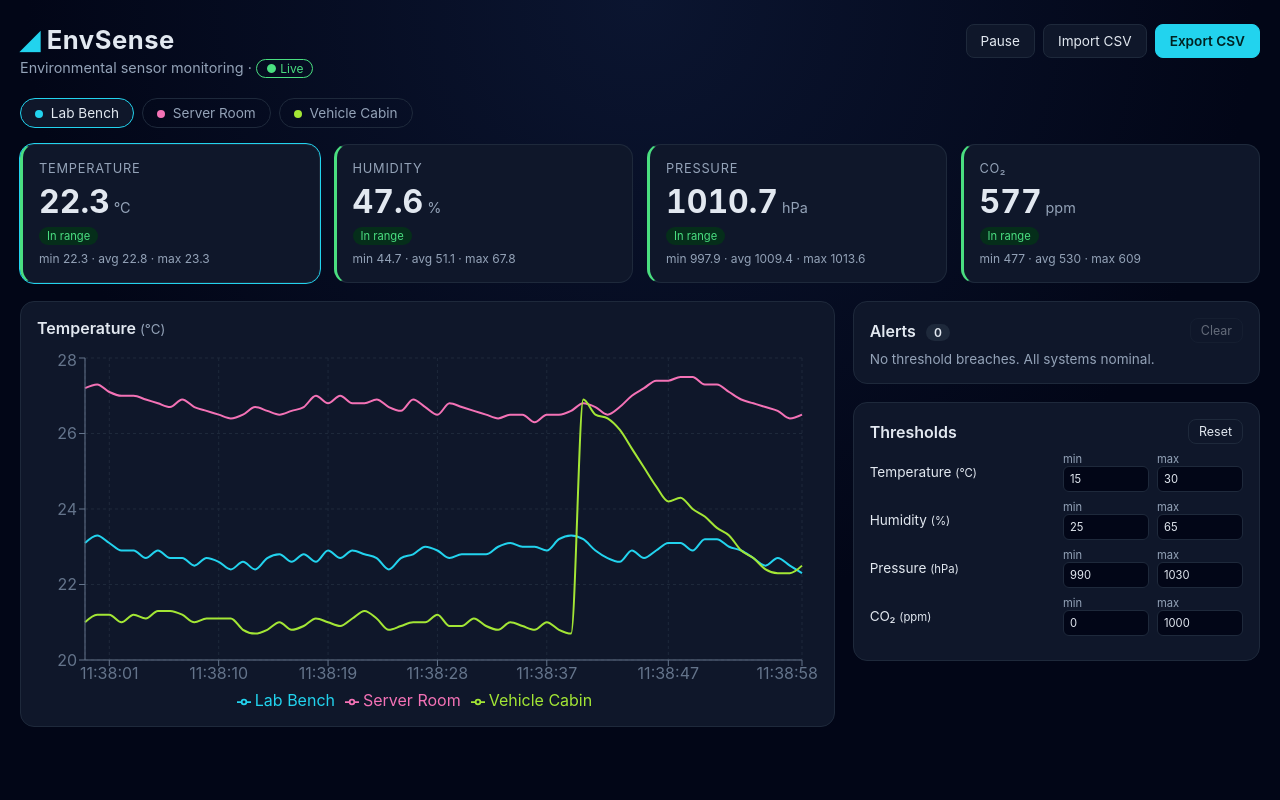
Test: App › pauses and resumes the stream
Click the button "Pause": (1000, 41) x1=966 y1=24 x2=1035 y2=58
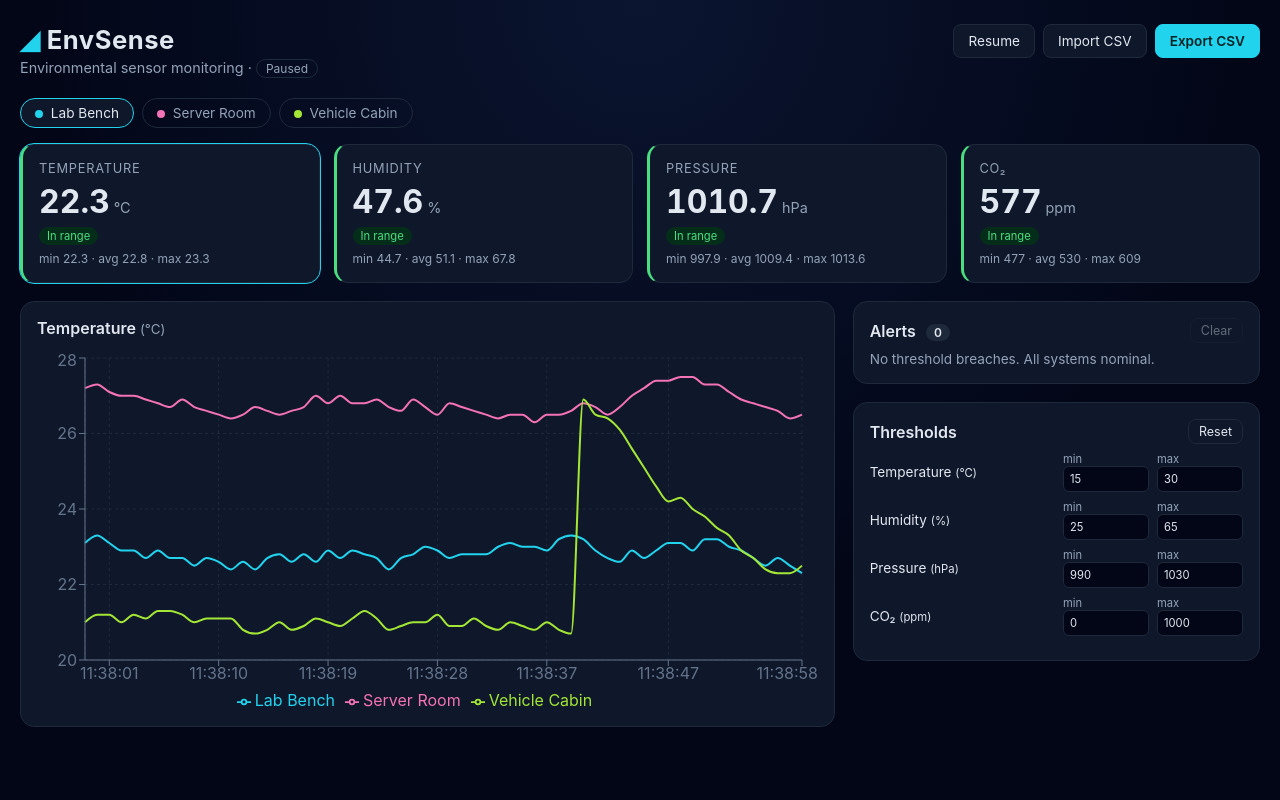
Now the button "Resume" is shown, box x1=954 y1=24 x2=1035 y2=58
